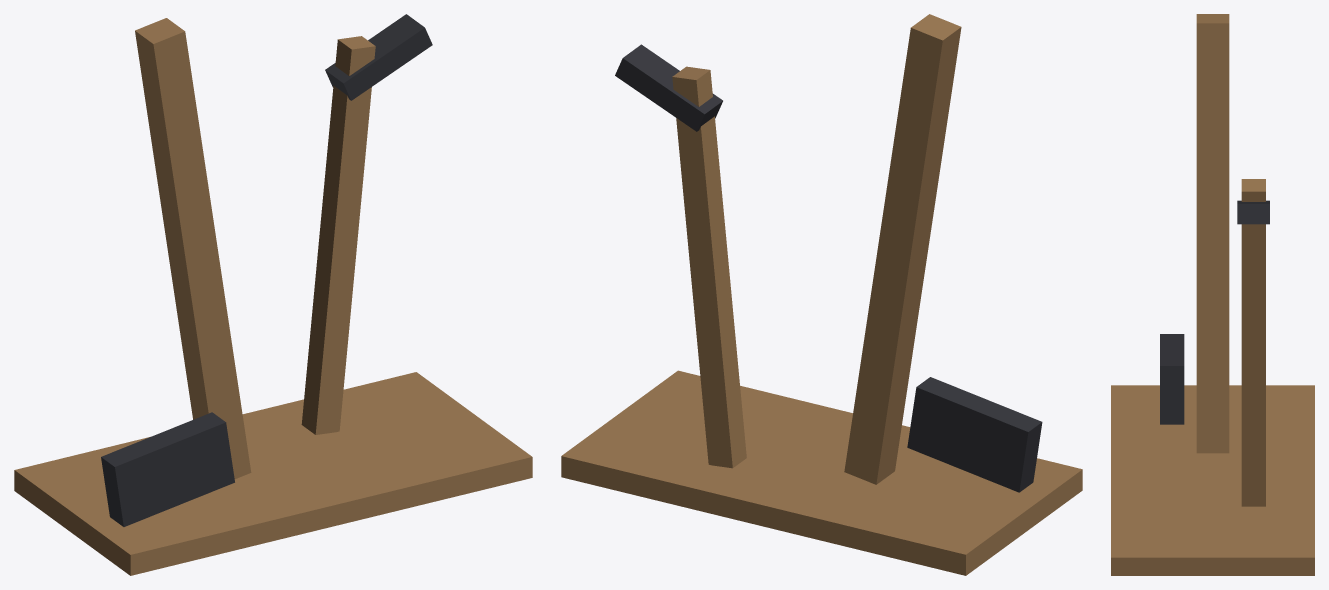
3 renders of one model, left to right at view 1: azimuth 30°, elevation 25°; view 2: azimuth 150°, elevation 25°; view 3: azimuth 270°, elevation 25°, orthographic. The views are drawn at different scales.
Parts seen in each view (by area): view 1: farm-tools-a@1.0.0; view 2: farm-tools-a@1.0.0; view 3: farm-tools-a@1.0.0.
Boxes of the visible parts, <box> form: farm-tools-a@1.0.0: <box>14,14,532,575</box>; farm-tools-a@1.0.0: <box>561,14,1082,575</box>; farm-tools-a@1.0.0: <box>1111,14,1314,575</box>.
Bounding box in the file's own units: 1 × 1.15 × 0.5.
